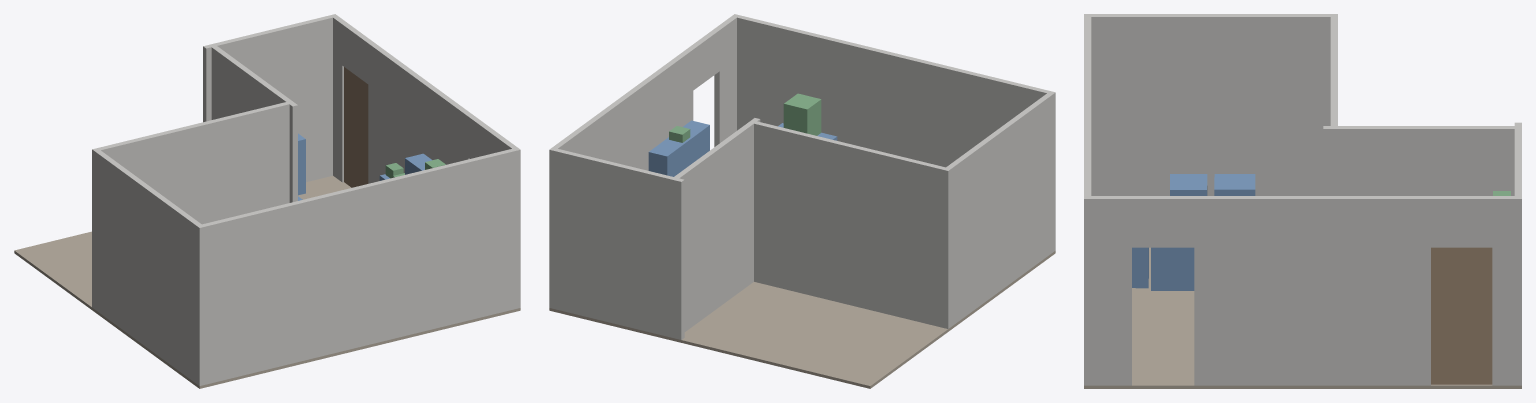
Rendered from room_084.glb.
3 views of the same model, side by side, from view 1: azimuth 30°, elevation 25°; view 2: azimuth 150°, elevation 25°; view 3: azimuth 270°, elevation 25° (orthographic). The views are drawn at different scales.
Visible parts, largest first — view 1: shell_wall_5_s0, shell_wall_4_s0, shell_wall_3_s0, shell_wall_1_s0, shell_wall_0_s2, shell_floor, shell_wall_2_s0, shell_wall_0_door, shell_wall_0_s4, shell_wall_0_s3, shell_wall_0_s1, shell_wall_0_s0 (+1 smaller); view 2: shell_wall_3_s0, shell_wall_5_s0, shell_wall_1_s0, shell_wall_4_s0, shell_floor, shell_wall_2_s0, shell_wall_0_s2, shell_wall_0_s0, obj_001, obj_011, shell_wall_0_s1, shell_wall_0_s4 (+1 smaller); view 3: shell_wall_0_s2, shell_wall_4_s0, shell_wall_2_s0, shell_wall_0_s0, shell_wall_0_door, shell_floor, shell_wall_0_s4, shell_wall_0_s1, shell_wall_0_s3, shell_wall_5_s0, obj_000, shell_wall_1_s0 (+4 smaller).
Part boxes in pixels (x1,y1,x2,y2): shell_wall_5_s0: (197, 148, 520, 385); shell_wall_4_s0: (92, 148, 204, 385); shell_wall_3_s0: (92, 101, 294, 309); shell_wall_1_s0: (203, 14, 337, 182); shell_wall_0_s2: (368, 42, 473, 183); shell_floor: (14, 176, 520, 388); shell_wall_2_s0: (210, 44, 297, 202); shell_wall_0_door: (344, 67, 368, 187); shell_wall_0_s4: (330, 14, 347, 182); shell_wall_0_s3: (342, 23, 373, 83); shell_wall_0_s1: (468, 115, 499, 158); shell_wall_0_s0: (495, 135, 520, 307); shell_wall_3_s0: (753, 121, 951, 328); shell_wall_5_s0: (732, 14, 1055, 252); shell_wall_1_s0: (549, 148, 684, 339); shell_wall_4_s0: (943, 91, 1055, 328); shell_floor: (549, 251, 1055, 388); shell_wall_2_s0: (670, 118, 760, 337); shell_wall_0_s2: (588, 48, 693, 170); shell_wall_0_s0: (714, 14, 739, 146); obj_001: (648, 120, 709, 176); obj_011: (783, 93, 821, 135); shell_wall_0_s1: (688, 29, 719, 90); shell_wall_0_s4: (549, 140, 566, 308); shell_wall_0_s2: (1194, 196, 1430, 385); shell_wall_4_s0: (1084, 14, 1337, 195); shell_wall_2_s0: (1323, 126, 1521, 195); shell_wall_0_s0: (1084, 196, 1131, 385); shell_wall_0_door: (1431, 247, 1492, 384); shell_floor: (1084, 247, 1521, 388); shell_wall_0_s4: (1492, 196, 1521, 385); shell_wall_0_s1: (1132, 196, 1194, 247); shell_wall_0_s3: (1431, 196, 1492, 247); shell_wall_5_s0: (1084, 14, 1091, 385); obj_000: (1151, 247, 1194, 290); shell_wall_1_s0: (1514, 122, 1521, 385).
Size of the model in its own units: 5.95 by 2.85 by 5.95.
